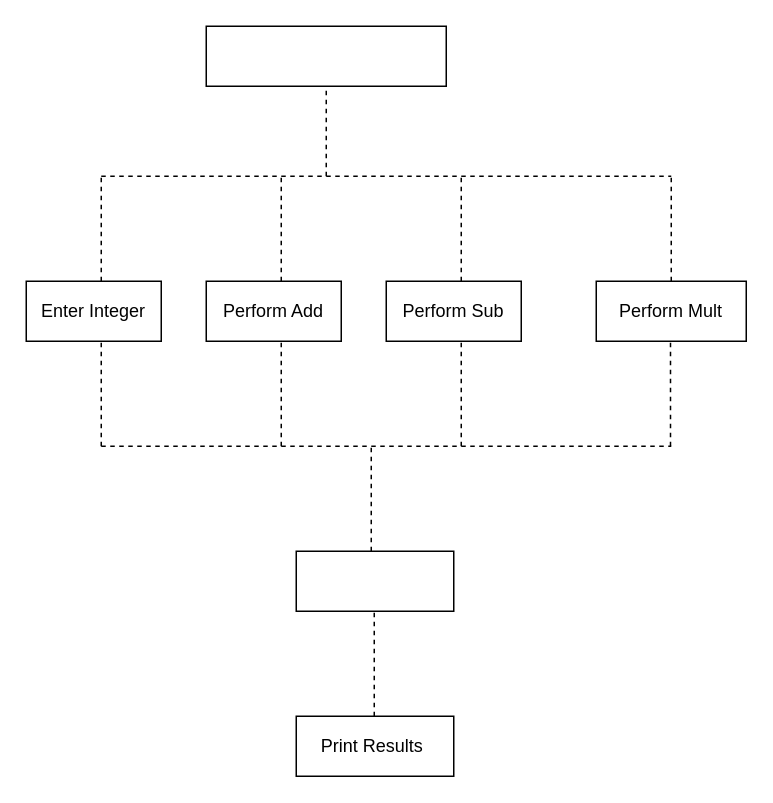
Image size: 773x803. Some labels were removed from this diagram. Here are the shapes that lost their labels. From the top down, the centre of each, then its label:
At pixel 325 55: "User".
At pixel 374 580: "Compare Integers".
